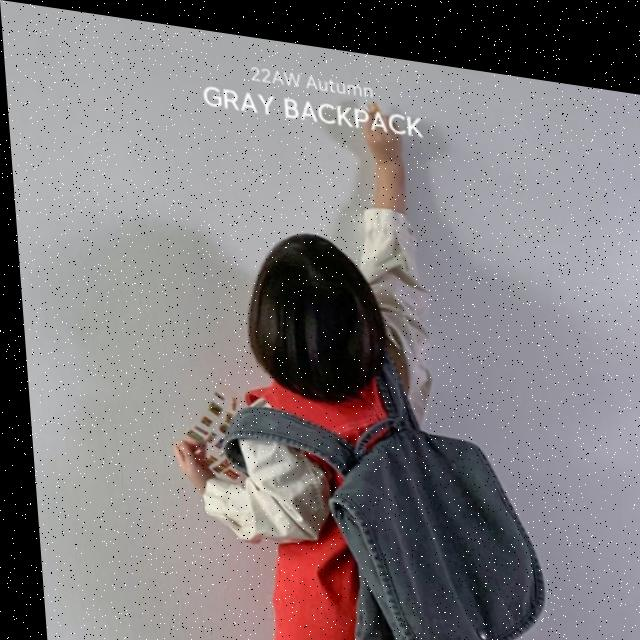backpack: (251, 377, 563, 640)
